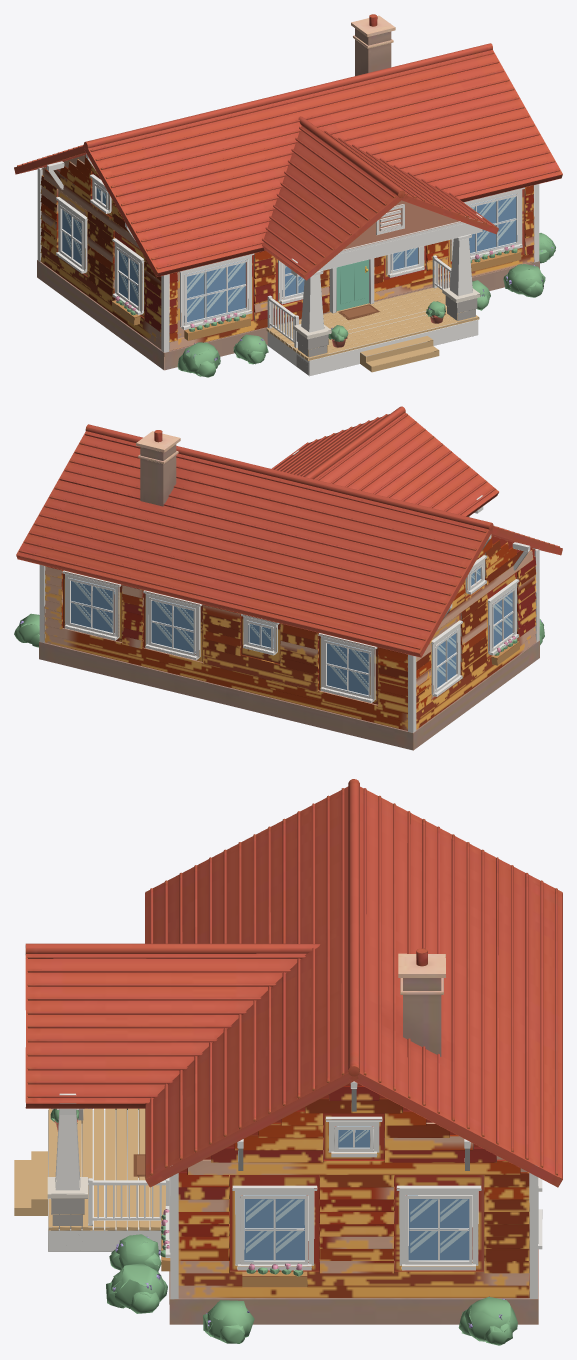
The model's file is house-bungalow.glb.
3 views of the same model, one above another, from view 1: azimuth 30°, elevation 25°; view 2: azimuth 150°, elevation 25°; view 3: azimuth 270°, elevation 25° (orthographic). The views are drawn at different scales.
Visible parts, largest first — view 1: bungalow_body, bungalow_details, bungalow_plants, bungalow_glints, bungalow_door_l, bungalow_frame; view 2: bungalow_body, bungalow_details, bungalow_glints, bungalow_plants; view 3: bungalow_body, bungalow_details, bungalow_plants, bungalow_glints.
Part boxes in pixels (x1,y1,x2,y2): bungalow_body: (14, 14, 562, 370); bungalow_details: (37, 153, 539, 376); bungalow_plants: (177, 233, 555, 377); bungalow_glints: (63, 187, 515, 316); bungalow_door_l: (336, 259, 368, 310); bungalow_frame: (329, 258, 374, 313); bungalow_body: (16, 406, 562, 750); bungalow_details: (39, 450, 539, 732); bungalow_glints: (74, 570, 512, 691); bungalow_plants: (14, 613, 544, 647); bungalow_body: (25, 779, 562, 1324); bungalow_details: (14, 1081, 542, 1299); bungalow_plants: (50, 1108, 517, 1345); bungalow_glints: (246, 1130, 467, 1253).
Size of the model in its own units: 12.64 by 6.19 by 9.69.
Materials: 20 (1 with a texture image).
